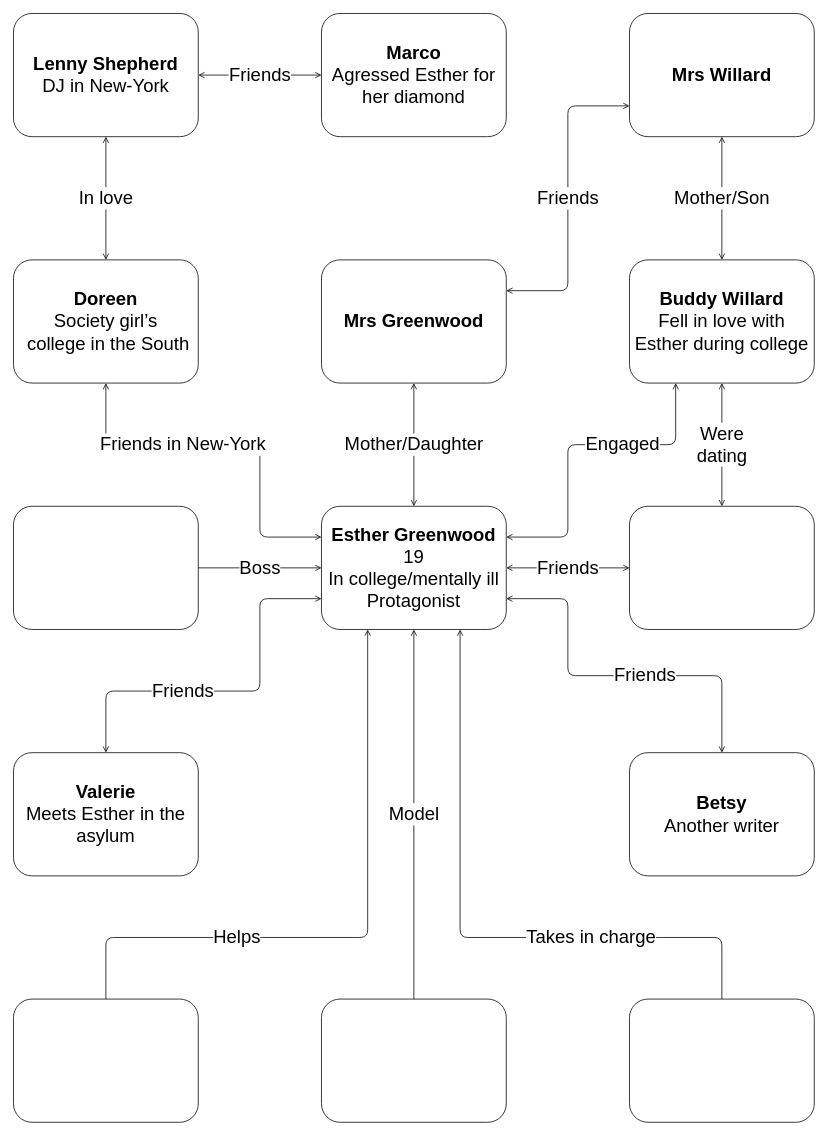
Image size: 828x1136. Some labels were removed from this diagram. The shapes that lost their labels are listed below. From the top down, each one's centre as x and y in pixels, then its label:
the point at 105,567: Jay Cee Old, ugly woman
the point at 721,567: Joan Meets Esther in the asylum
the point at 105,1060: Doctor Nolan Doctor in the asylum
the point at 413,1060: Mrs Guinea Gave Esther a scholarship and paid the asylum fees
the point at 721,1060: Doctor Gordon Psychiatrist
